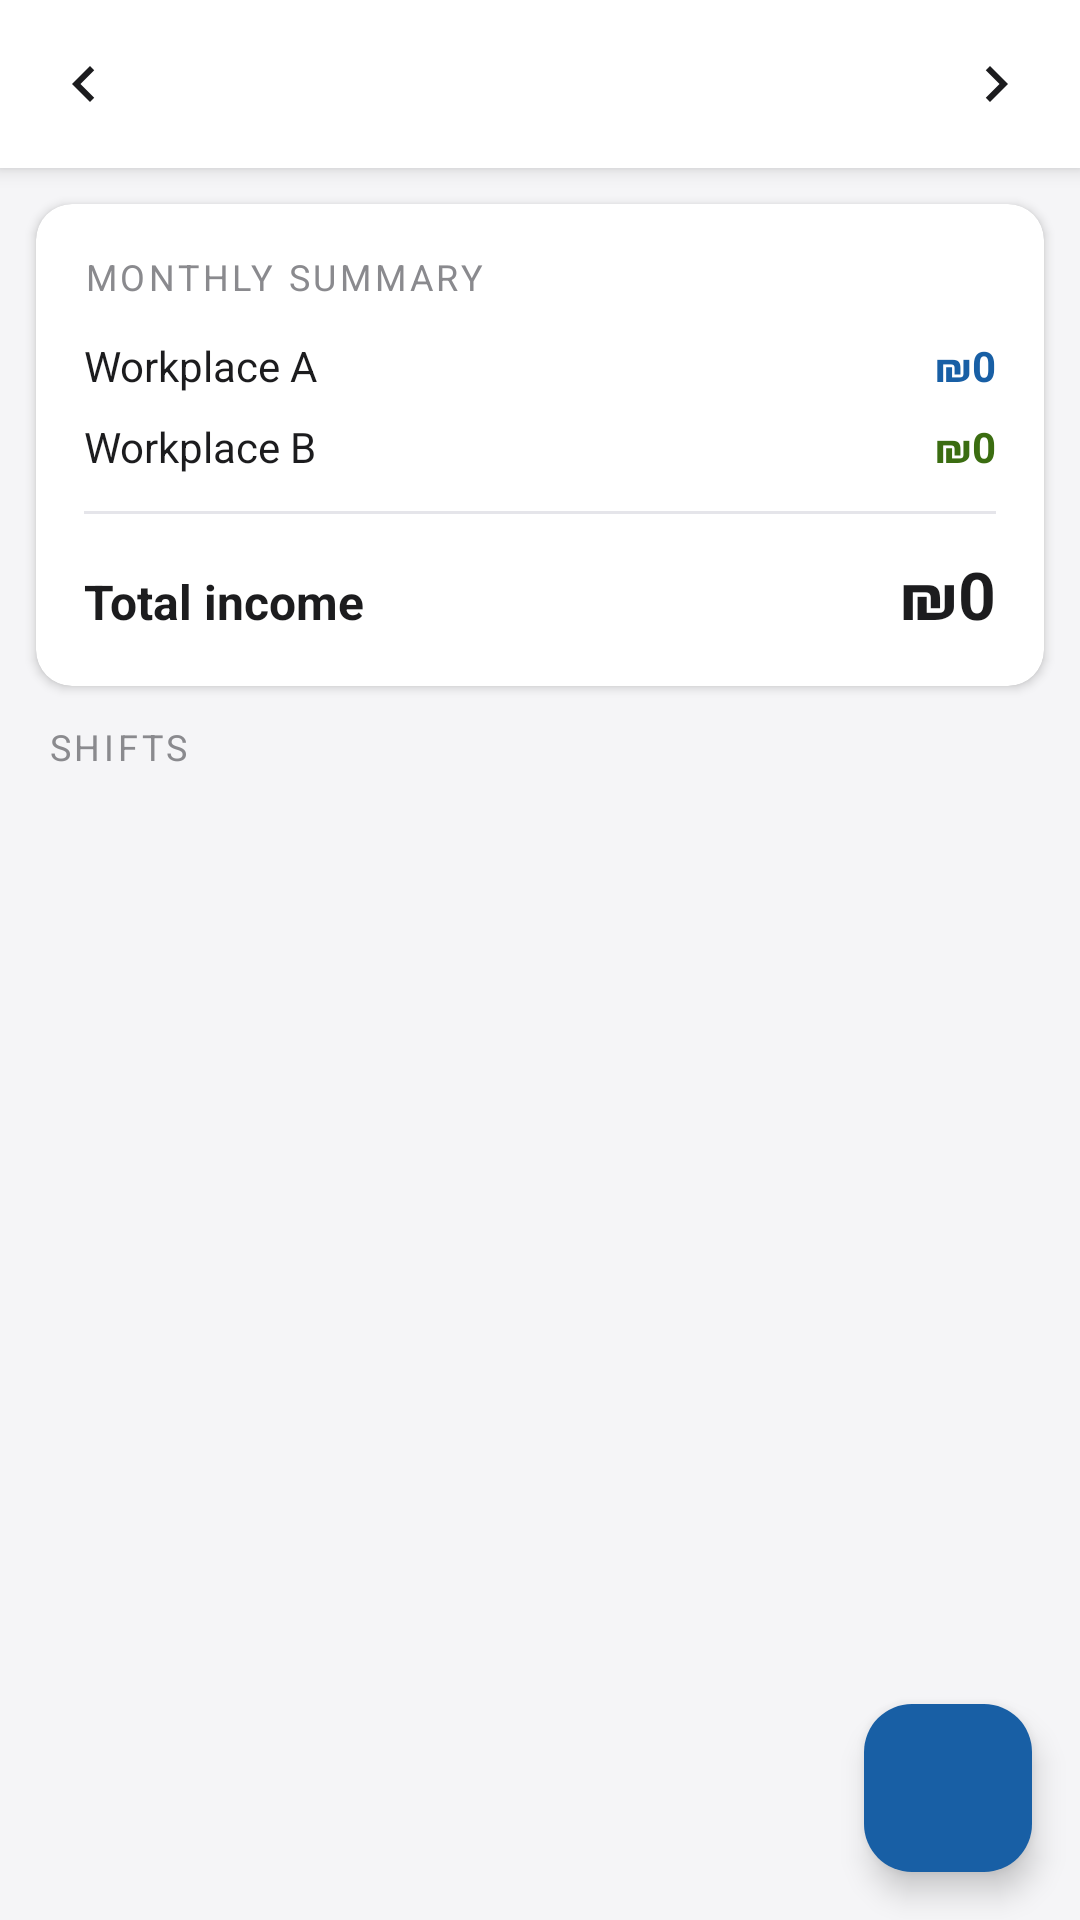

Where to tap for icons on this 1080*1920 app screen, as (x=x, y=y):
Next month: (x=997, y=84)
Previous month: (x=83, y=84)
